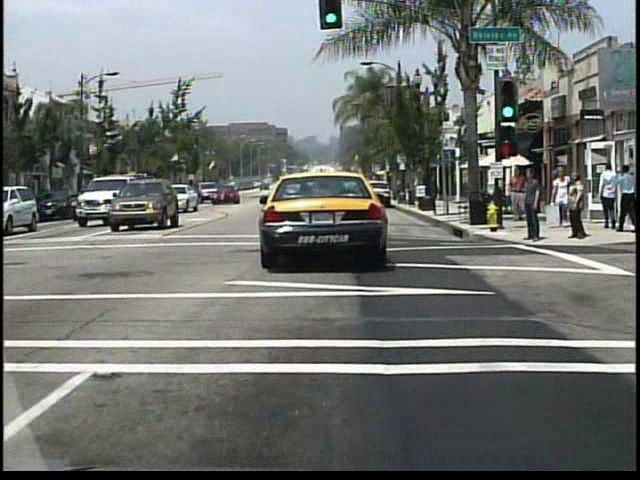person: (611, 166, 635, 234), (524, 166, 544, 242), (595, 160, 615, 230), (570, 171, 590, 240), (549, 166, 570, 228), (508, 169, 527, 222)
